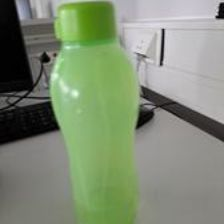bottle: (51, 3, 141, 223)
